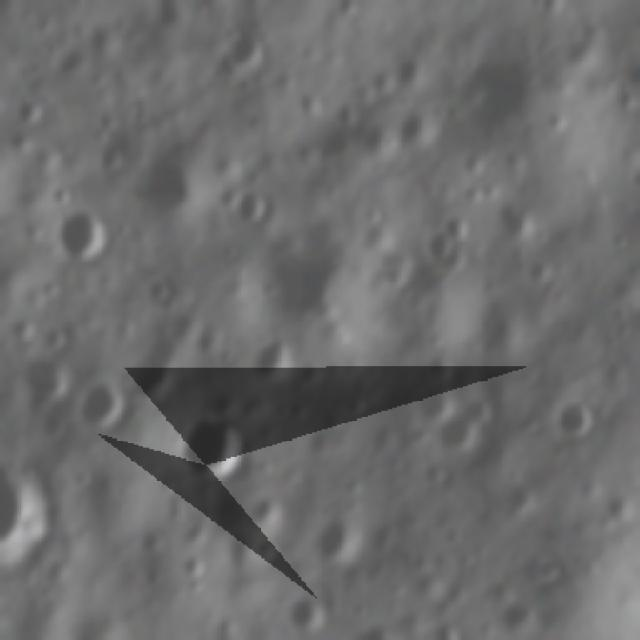crater: (261, 210, 379, 333), (0, 445, 68, 570), (151, 406, 244, 480), (47, 205, 119, 269), (436, 395, 502, 460), (71, 372, 138, 434), (411, 208, 477, 270), (308, 505, 372, 566), (306, 611, 425, 640), (216, 19, 275, 72), (551, 393, 606, 445), (246, 336, 294, 387), (617, 38, 640, 102), (554, 0, 606, 2)
